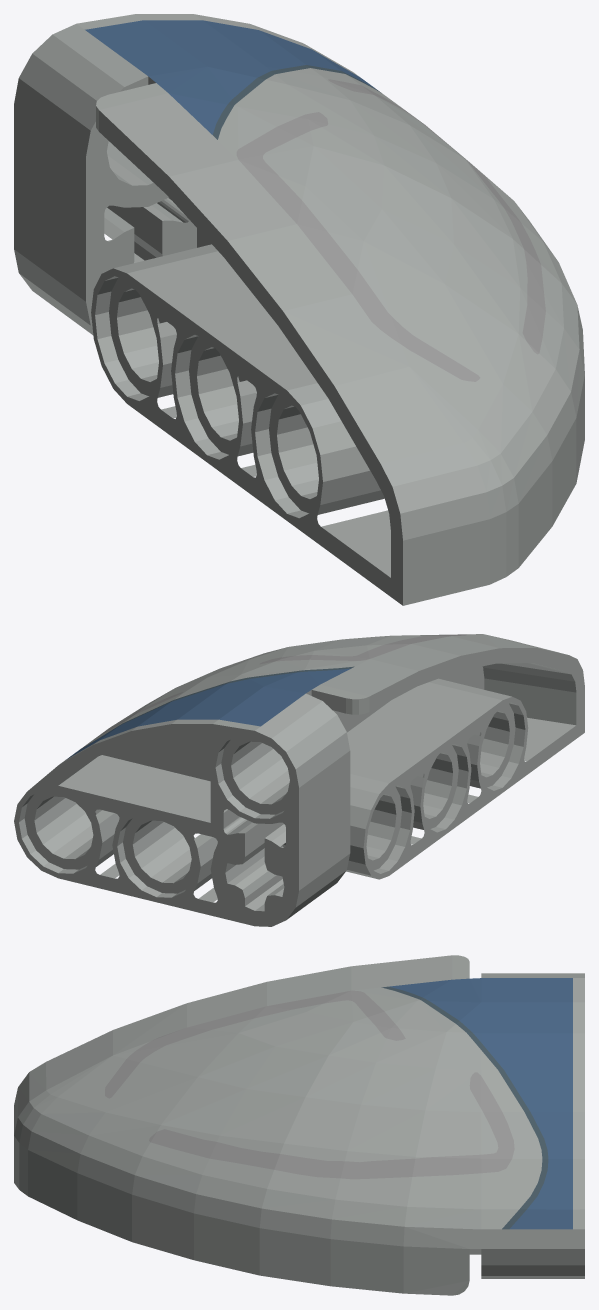
3 renders of one model, top to bottom at view 1: azimuth 30°, elevation 25°; view 2: azimuth 150°, elevation 25°; view 3: azimuth 270°, elevation 25°, orthographic. The views are drawn at different scales.
Visible parts, largest first — view 1: world; view 2: world; view 3: world.
Part boxes in pixels (x1=…): world: x1=14, y1=14, x2=584, y2=605; world: x1=14, y1=634, x2=584, y2=926; world: x1=14, y1=955, x2=584, y2=1295.
Bounding box in the file's own units: 0.0236 × 0.0152 × 0.0396.
